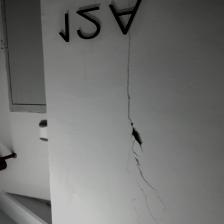Medium: (110, 48, 171, 200)
